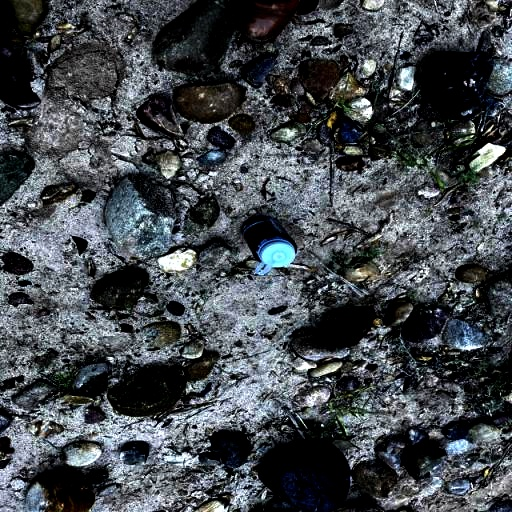bottle: (241, 216, 297, 276)
